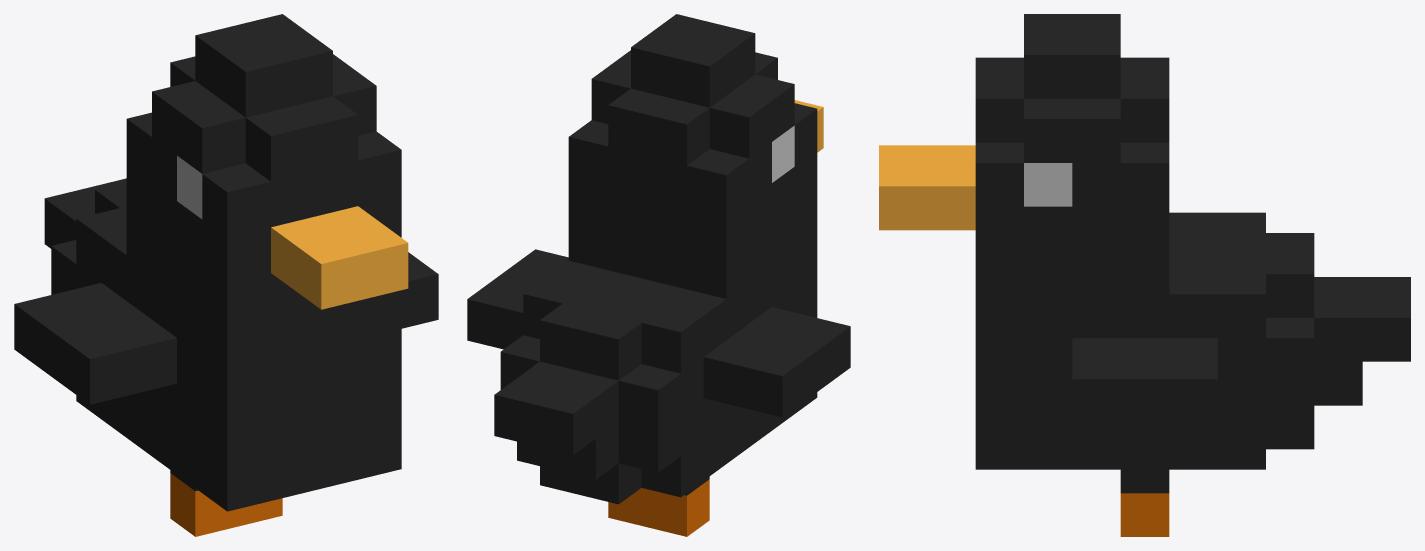
The model's file is voxel_black_bird_game_character.glb.
3 views of the same model, side by side, from view 1: azimuth 30°, elevation 25°; view 2: azimuth 150°, elevation 25°; view 3: azimuth 270°, elevation 25° (orthographic). The views are drawn at different scales.
Visible parts, largest first — view 1: Object_2; view 2: Object_2; view 3: Object_2.
Boxes of the visible parts, x1=… form: Object_2: x1=14, y1=14, x2=438, y2=536; Object_2: x1=467, y1=14, x2=850, y2=536; Object_2: x1=879, y1=14, x2=1410, y2=536.
Bounding box in the file's own units: 8 × 11 × 11.
1 material, 1 textured.
